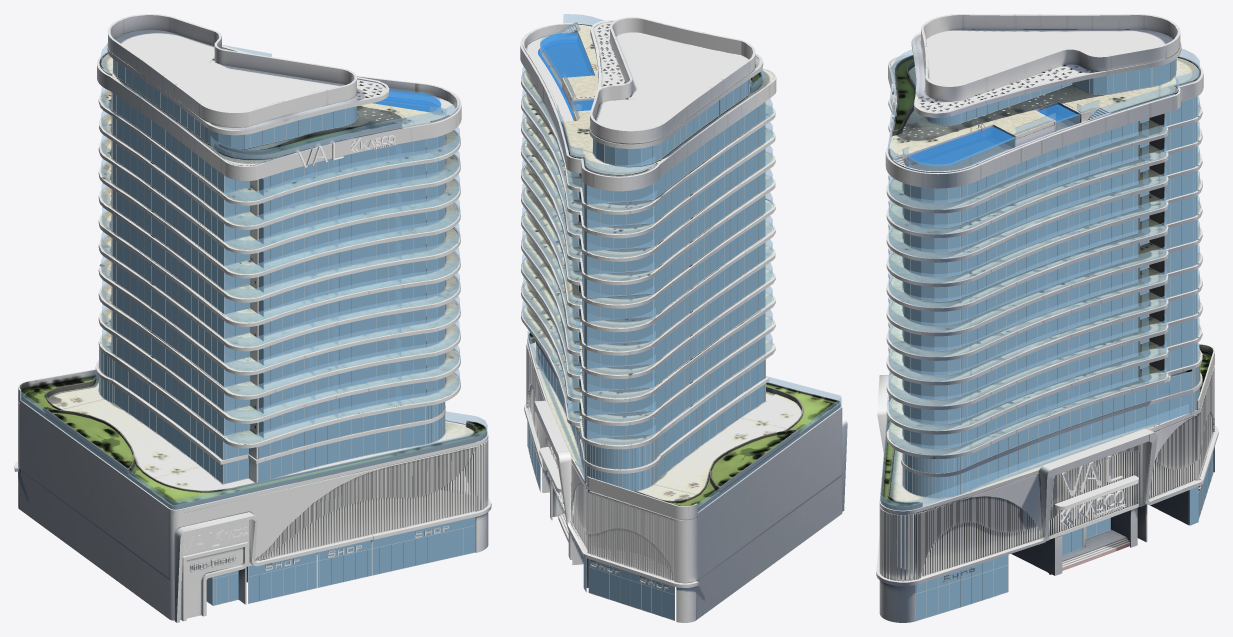
Rendered from build.glb.
3 views of the same model, side by side, from view 1: azimuth 30°, elevation 25°; view 2: azimuth 150°, elevation 25°; view 3: azimuth 270°, elevation 25° (orthographic). The views are drawn at different scales.
Parts seen in each view (by area): view 1: ValByKasco_build; view 2: ValByKasco_build; view 3: ValByKasco_build.
Part boxes in pixels (x1=…): ValByKasco_build: x1=14, y1=14, x2=491, y2=622; ValByKasco_build: x1=520, y1=14, x2=847, y2=622; ValByKasco_build: x1=876, y1=14, x2=1218, y2=622.
Bounding box in the file's own units: 50.44 × 71.1 × 45.51.
8 materials, 5 textured.
